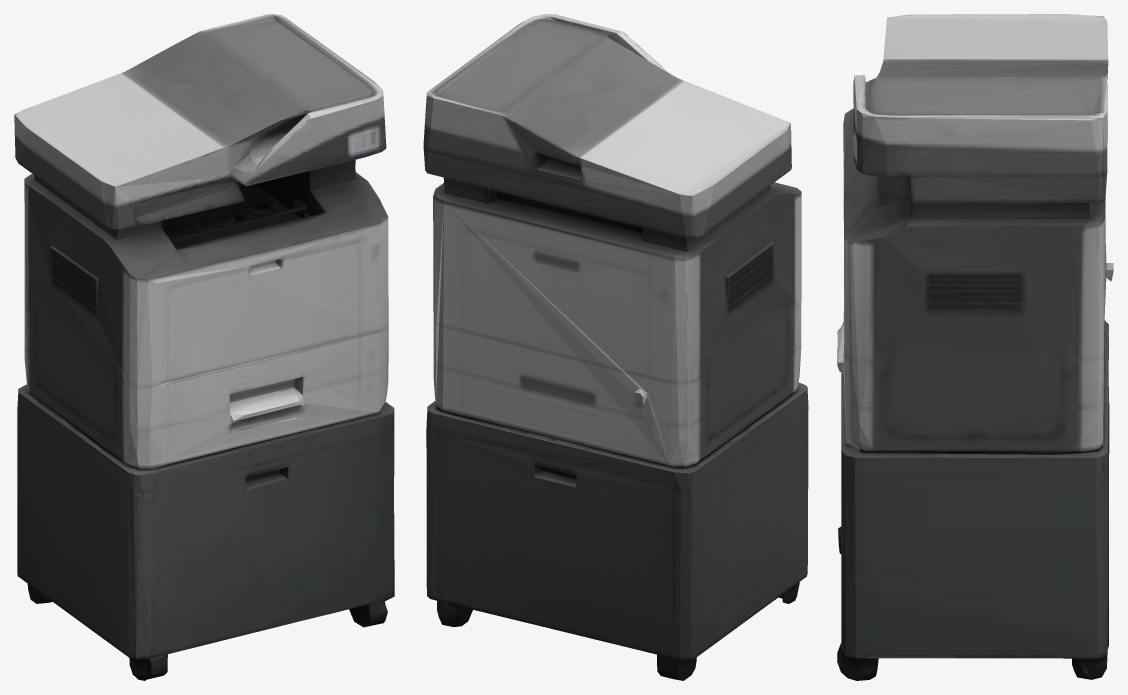
File: hf_printer.glb
3 views of the same model, side by side, from view 1: azimuth 30°, elevation 25°; view 2: azimuth 150°, elevation 25°; view 3: azimuth 270°, elevation 25° (orthographic). The views are drawn at different scales.
Visible parts, largest first — view 1: geometry_0; view 2: geometry_0; view 3: geometry_0.
Boxes of the visible parts, x1,y1,x2,y2 form: geometry_0: (14, 14, 394, 680); geometry_0: (423, 14, 808, 680); geometry_0: (837, 14, 1113, 680).
Size of the model in its own units: 0.5447 by 0.9992 by 0.4397.
Materials: 1 (1 with a texture image).
